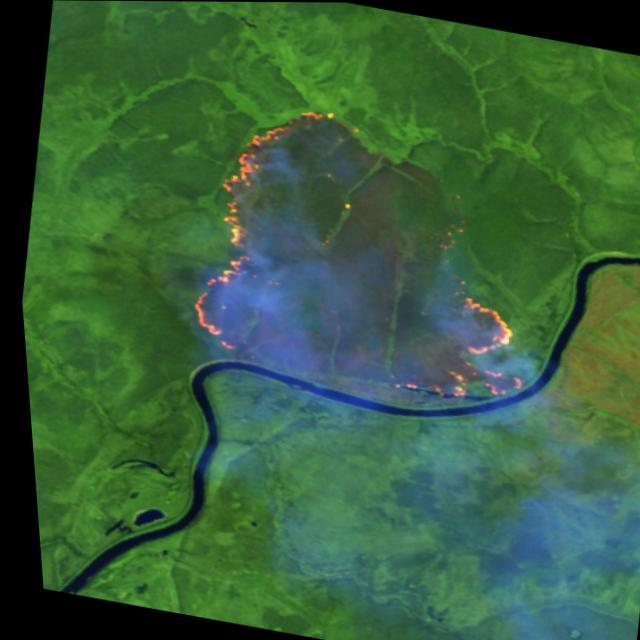fire: (159, 88, 572, 418)
